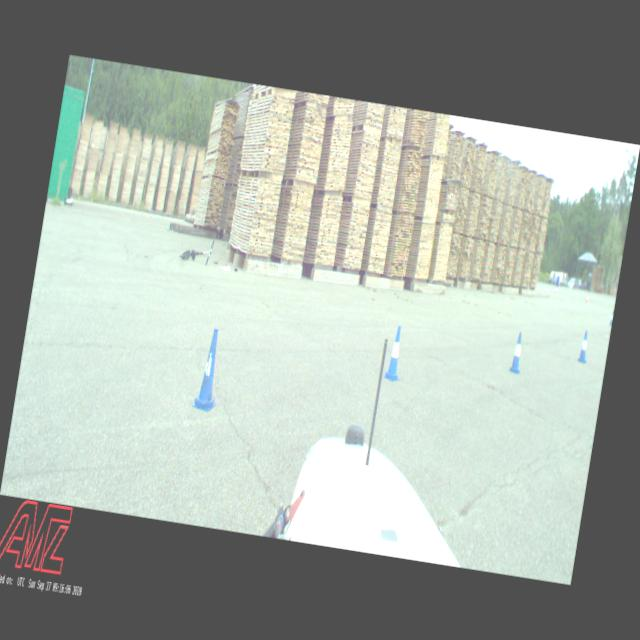blue_cone: (194, 328, 225, 410), (386, 325, 406, 380), (510, 332, 526, 374), (578, 330, 590, 362), (610, 310, 614, 326)
orange_cone: (586, 294, 589, 302), (555, 286, 557, 293)
